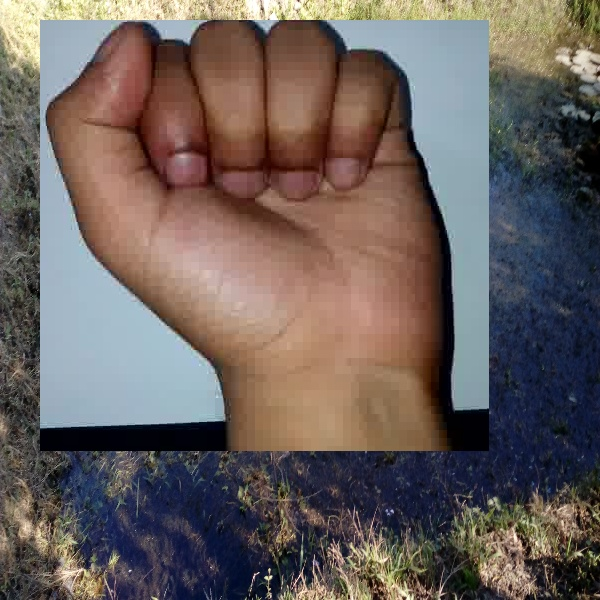A: (40, 20, 489, 451)
